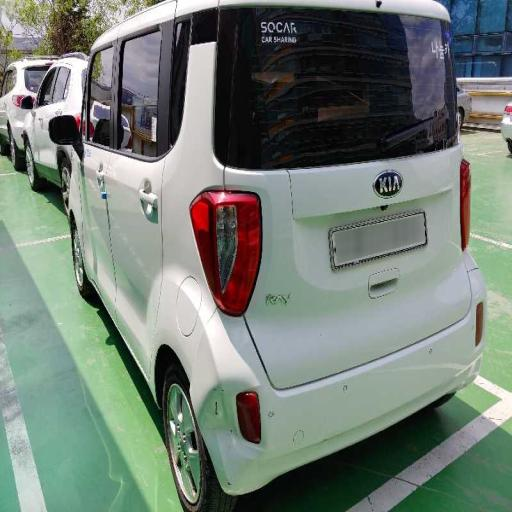dent: (207, 328, 499, 482), (98, 192, 191, 368)
